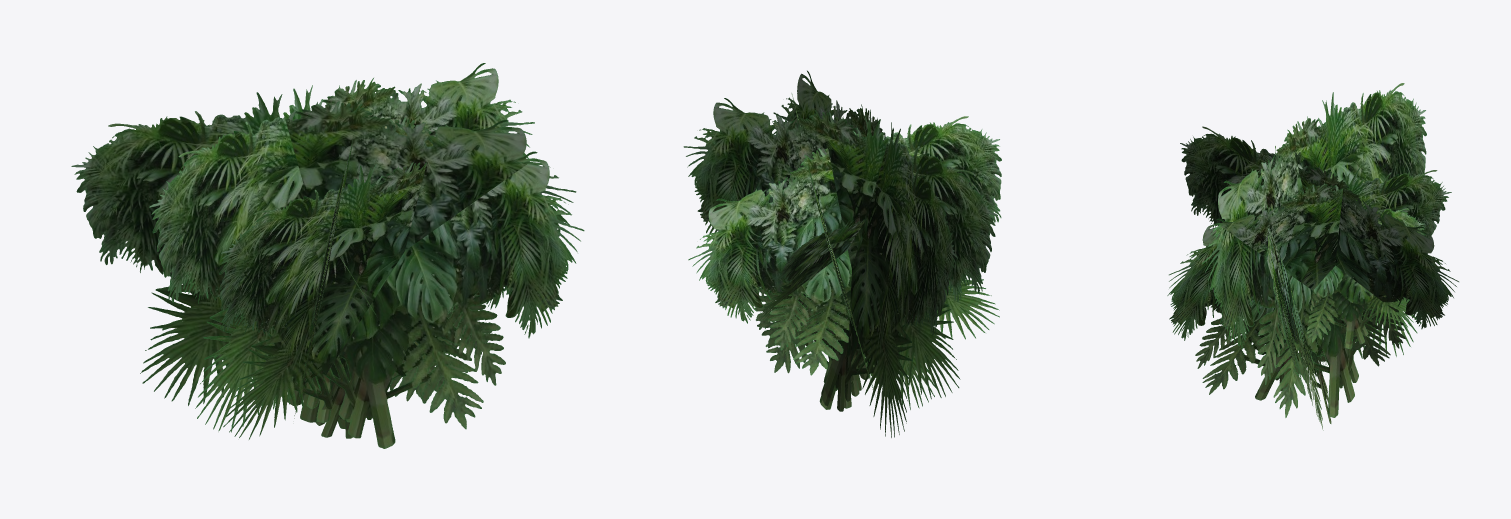
Rendered from shrub.fbx.
The picture shows the model from 3 angles, left to right: view 1: azimuth 30°, elevation 25°; view 2: azimuth 150°, elevation 25°; view 3: azimuth 270°, elevation 25°; orthographic projection. The views are drawn at different scales.
Parts seen in each view (by area): view 1: shrub; view 2: shrub; view 3: shrub.
Boxes of the visible parts, x1,y1,x2,y2 form: shrub: (71,63,584,448); shrub: (683,70,1001,437); shrub: (1167,83,1458,430).
Bounding box in the file's own units: 210 × 166 × 185.
Materials: 1 (1 with a texture image).
